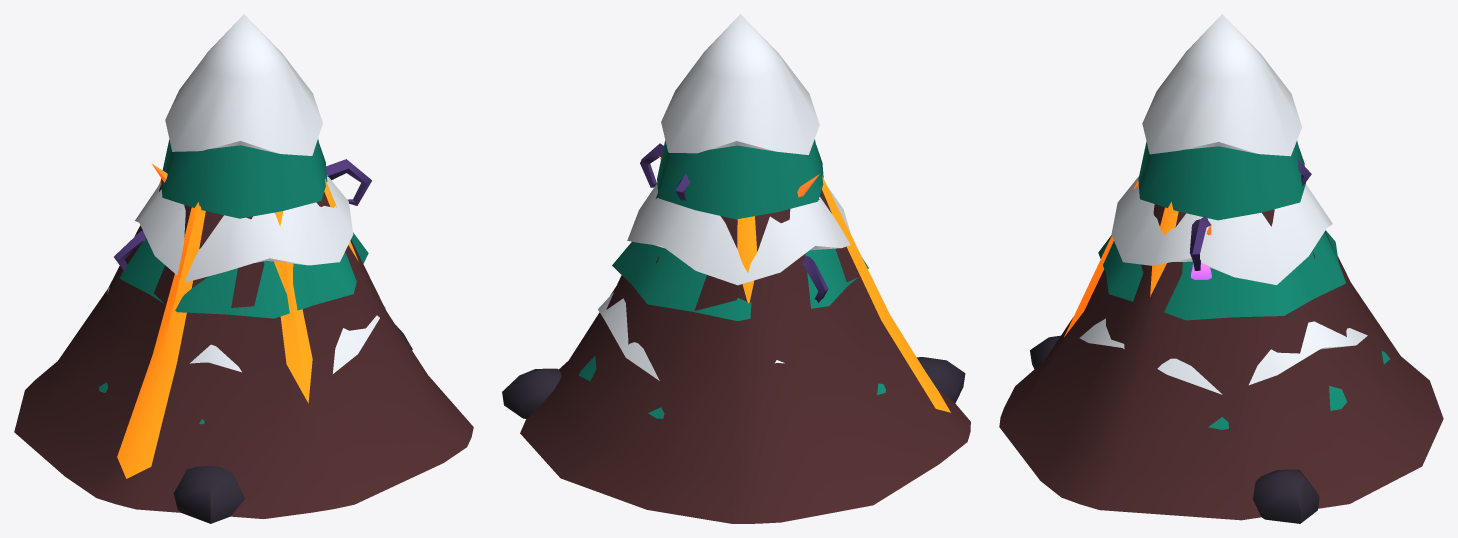
The model's file is worlds-harsh.glb.
3 views of the same model, side by side, from view 1: azimuth 30°, elevation 25°; view 2: azimuth 150°, elevation 25°; view 3: azimuth 270°, elevation 25° (orthographic).
Parts seen in each view (by area): view 1: mini_volcano, snow_pine, deadtree; view 2: mini_volcano, snow_pine, deadtree; view 3: mini_volcano, snow_pine, deadtree.
Part boxes in pixels (<box>): mini_volcano: <box>14,178,473,523</box>; snow_pine: <box>98,14,385,424</box>; deadtree: <box>114,159,371,270</box>; mini_volcano: <box>502,176,970,523</box>; snow_pine: <box>579,14,885,418</box>; deadtree: <box>640,143,828,302</box>; mini_volcano: <box>999,180,1443,523</box>; snow_pine: <box>1079,14,1390,429</box>; deadtree: <box>1189,159,1311,279</box>.
Size of the model in its own units: 3.95 by 4 by 3.9.
